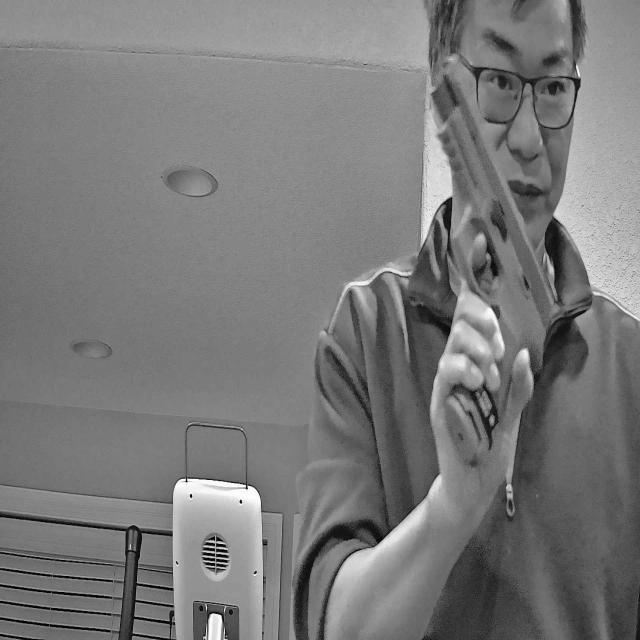Hand-Gun: (397, 5, 602, 522)
